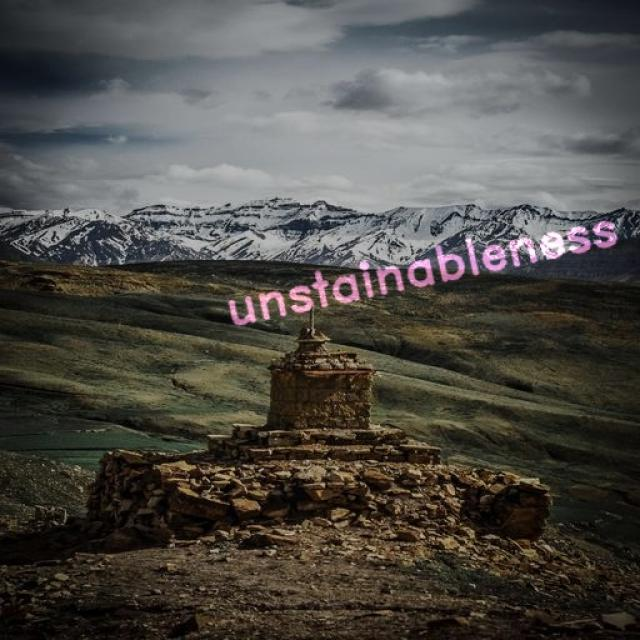watermark: (218, 206, 622, 334)
